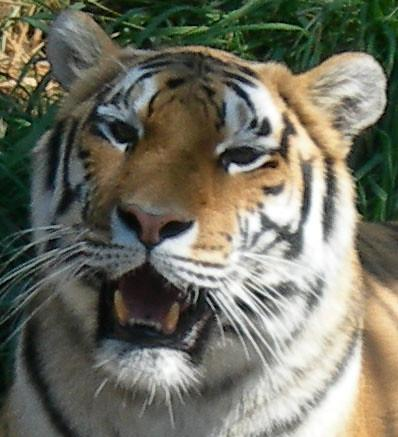tiger: (1, 7, 398, 437)
